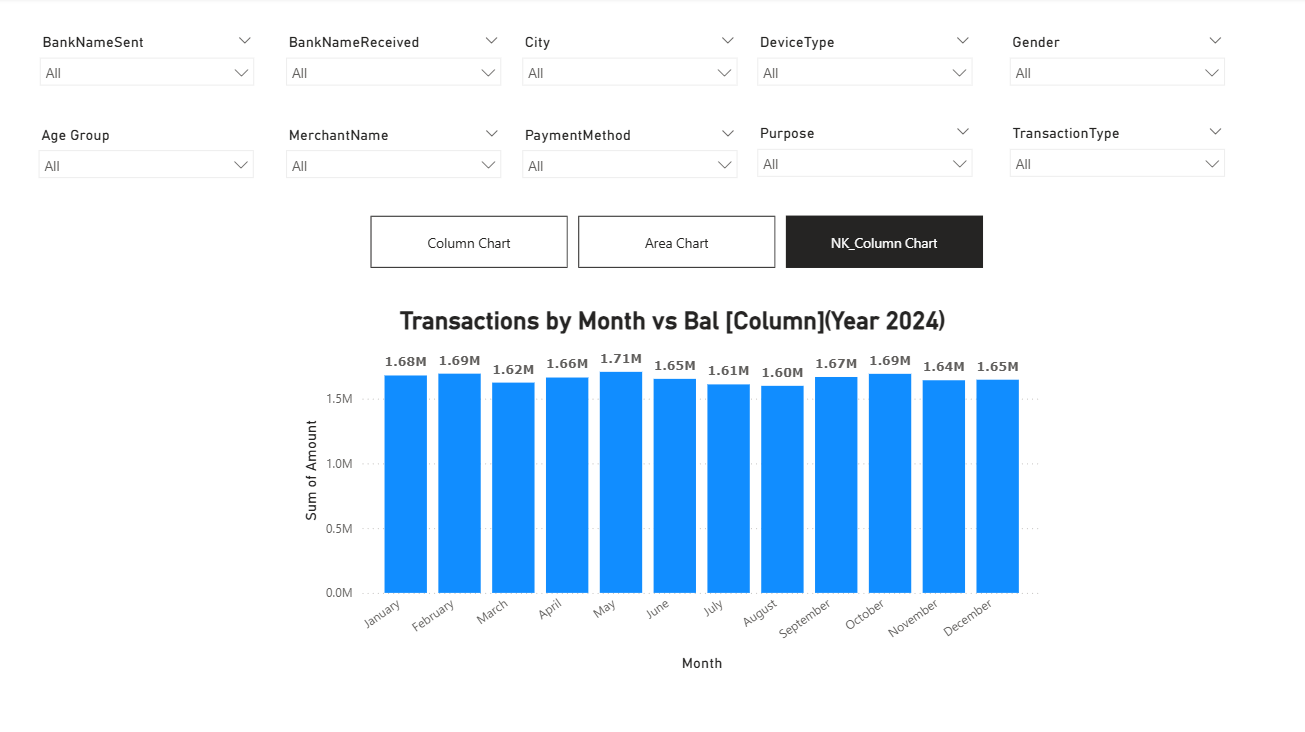

This screenshot's page, from the dashboard's own definition file:
{"tool":"powerbi","page":{"name":"Page 2","canvas":[1280,720],"ordinal":1},"visuals":[{"type":"slicer","fields":{"Values":["Sheet1.BankNameSent"]},"box":[30,30,230,80],"z":0},{"type":"slicer","fields":{"Values":["Sheet1.BankNameReceived"]},"box":[271.7,30.2,230.5,79.6],"z":1000},{"type":"slicer","fields":{"Values":["Sheet1.City"]},"box":[502.2,30.2,230.5,79.6],"z":2000},{"type":"slicer","fields":{"Values":["Sheet1.DeviceType"]},"box":[732.8,30.2,230.5,79.6],"z":3000},{"type":"slicer","fields":{"Values":["Sheet1.Gender"]},"box":[979.8,30.2,230.5,79.6],"z":4000},{"type":"slicer","fields":{"Values":["Sheet1.Age Group"]},"box":[29.5,121,230.7,78.8],"z":5000},{"type":"slicer","fields":{"Values":["Sheet1.MerchantName"]},"box":[271.5,121,230.7,78.8],"z":6000},{"type":"slicer","fields":{"Values":["Sheet1.PaymentMethod"]},"box":[502.3,121,230.7,78.8],"z":7000},{"type":"slicer","fields":{"Values":["Sheet1.Purpose"]},"box":[733,119.6,230.7,80.2],"z":8000},{"type":"slicer","fields":{"Values":["Sheet1.TransactionType"]},"box":[979.2,119.6,230.7,80.2],"z":9000},{"type":"columnChart","title":"Transactions by Month vs Bal [Column](Year 2024)","fields":{"Category":["Sheet1.TransactionDate.Variation.Date Hierarchy.Month"],"Y":["Sum(Sheet1.Amount)"]},"box":[293.7,302.1,732.1,362.9],"z":12000},{"type":"bookmarkNavigator","title":"Bookmark navigator1","box":[364.4,214,599.2,51.4],"z":13000}]}

Visuals, with their boxes in screenshot pixels (x1, y1, x2, y2), scaled from the page's 1280x720 canvas onto the 1305x732 screenshot:
slicer - Sheet1.BankNameSent: {"left": 31, "top": 30, "right": 265, "bottom": 112}
slicer - Sheet1.BankNameReceived: {"left": 277, "top": 31, "right": 512, "bottom": 112}
slicer - Sheet1.City: {"left": 512, "top": 31, "right": 747, "bottom": 112}
slicer - Sheet1.DeviceType: {"left": 747, "top": 31, "right": 982, "bottom": 112}
slicer - Sheet1.Gender: {"left": 999, "top": 31, "right": 1234, "bottom": 112}
slicer - Sheet1.Age Group: {"left": 30, "top": 123, "right": 265, "bottom": 203}
slicer - Sheet1.MerchantName: {"left": 277, "top": 123, "right": 512, "bottom": 203}
slicer - Sheet1.PaymentMethod: {"left": 512, "top": 123, "right": 747, "bottom": 203}
slicer - Sheet1.Purpose: {"left": 747, "top": 122, "right": 983, "bottom": 203}
slicer - Sheet1.TransactionType: {"left": 998, "top": 122, "right": 1234, "bottom": 203}
"Transactions by Month vs Bal [Column](Year 2024)" columnChart: {"left": 299, "top": 307, "right": 1046, "bottom": 676}
"Bookmark navigator1" bookmarkNavigator: {"left": 372, "top": 218, "right": 982, "bottom": 270}
